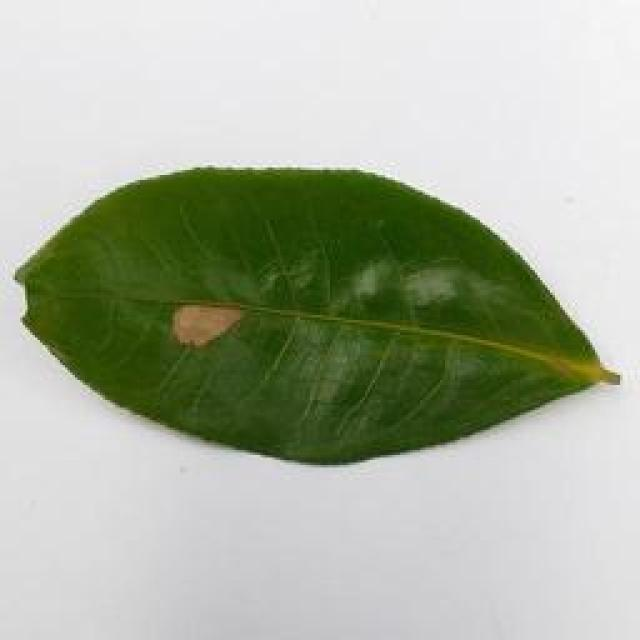Gray Blight: (0, 152, 625, 470)
